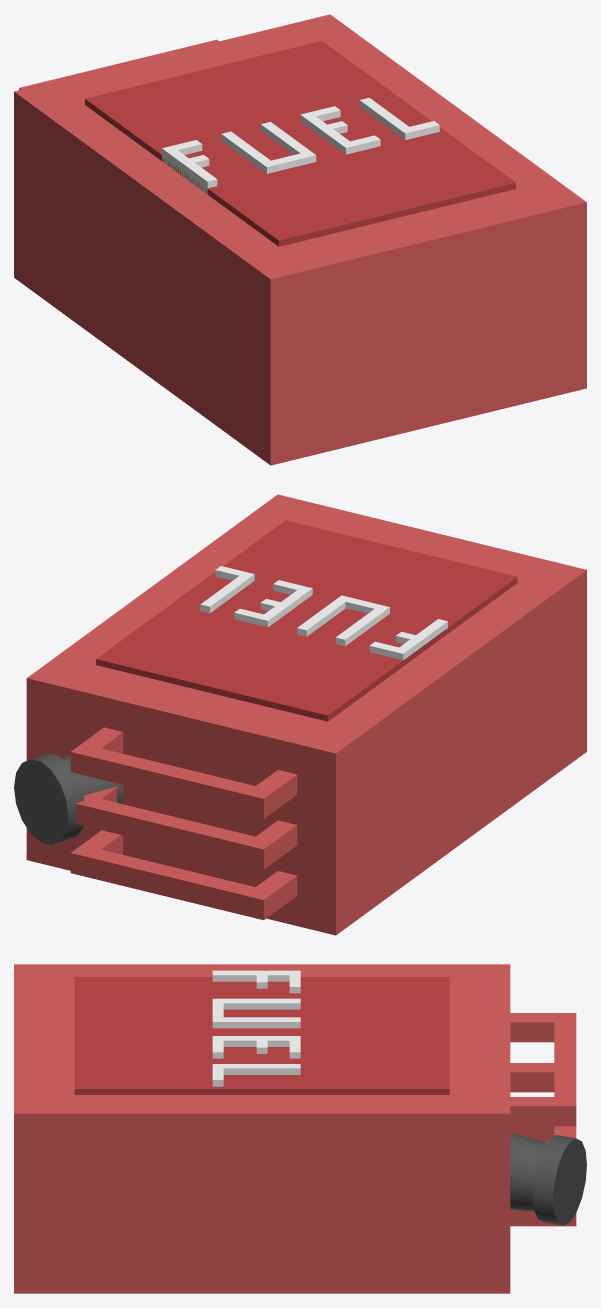
Rendered from fuel_canister.fbx.
3 views of the same model, one above another, from view 1: azimuth 30°, elevation 25°; view 2: azimuth 150°, elevation 25°; view 3: azimuth 270°, elevation 25° (orthographic). The views are drawn at different scales.
Parts seen in each view (by area): view 1: imagetostl_mesh0, imagetostl_mesh1, imagetostl_mesh14, imagetostl_mesh17, imagetostl_mesh24, imagetostl_mesh18, imagetostl_mesh20, imagetostl_mesh9; view 2: imagetostl_mesh0, imagetostl_mesh1, imagetostl_mesh3, imagetostl_mesh9, imagetostl_mesh6, imagetostl_mesh13, imagetostl_mesh11, imagetostl_mesh5, imagetostl_mesh8, imagetostl_mesh10, imagetostl_mesh17, imagetostl_mesh24 (+5 smaller); view 3: imagetostl_mesh0, imagetostl_mesh1, imagetostl_mesh13, imagetostl_mesh9, imagetostl_mesh12, imagetostl_mesh10, imagetostl_mesh11, imagetostl_mesh8, imagetostl_mesh18, imagetostl_mesh17, imagetostl_mesh14, imagetostl_mesh24 (+3 smaller).
Part boxes in pixels (x1,y1,x2,y2): imagetostl_mesh0: (14, 14, 586, 465); imagetostl_mesh1: (85, 41, 515, 246); imagetostl_mesh14: (162, 146, 217, 194); imagetostl_mesh17: (221, 131, 276, 173); imagetostl_mesh24: (359, 97, 414, 139); imagetostl_mesh18: (260, 122, 316, 164); imagetostl_mesh20: (300, 113, 355, 154); imagetostl_mesh9: (19, 39, 218, 89); imagetostl_mesh0: (26, 494, 586, 935); imagetostl_mesh1: (96, 520, 517, 721); imagetostl_mesh3: (70, 845, 274, 920); imagetostl_mesh9: (70, 744, 274, 818); imagetostl_mesh6: (75, 795, 274, 869); imagetostl_mesh13: (14, 753, 84, 845); imagetostl_mesh11: (250, 770, 297, 814); imagetostl_mesh5: (250, 871, 297, 911); imagetostl_mesh8: (250, 820, 297, 861); imagetostl_mesh10: (76, 727, 123, 753); imagetostl_mesh17: (335, 605, 389, 646); imagetostl_mesh24: (200, 573, 254, 613); imagetostl_mesh0: (14, 964, 510, 1293); imagetostl_mesh1: (74, 977, 449, 1094); imagetostl_mesh13: (533, 1135, 586, 1225); imagetostl_mesh9: (554, 1013, 576, 1126); imagetostl_mesh12: (510, 1133, 546, 1211); imagetostl_mesh10: (510, 1097, 565, 1126); imagetostl_mesh11: (510, 1013, 565, 1042); imagetostl_mesh8: (510, 1063, 554, 1092); imagetostl_mesh18: (212, 1017, 300, 1028); imagetostl_mesh17: (212, 998, 300, 1009); imagetostl_mesh14: (212, 970, 300, 981); imagetostl_mesh24: (212, 1064, 300, 1074).
Bounding box in the file's own units: 320 × 199 × 520.
